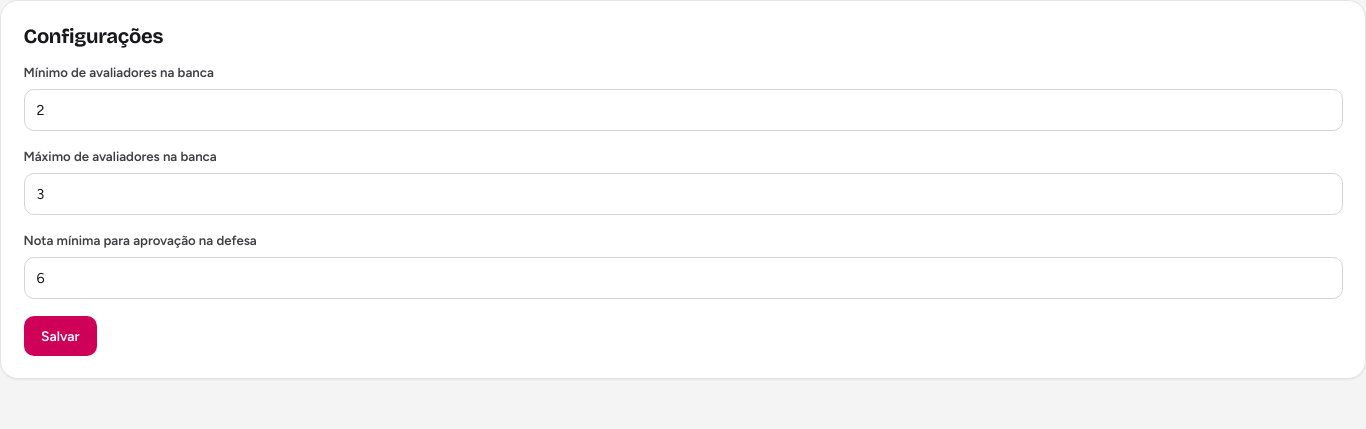
Test: coordenação: configurações › carrega e salva
Replace the text in the number field labelled "Nota mínima para aprovação na defesa" with "7" at (683, 278), box [24, 257, 1342, 299]
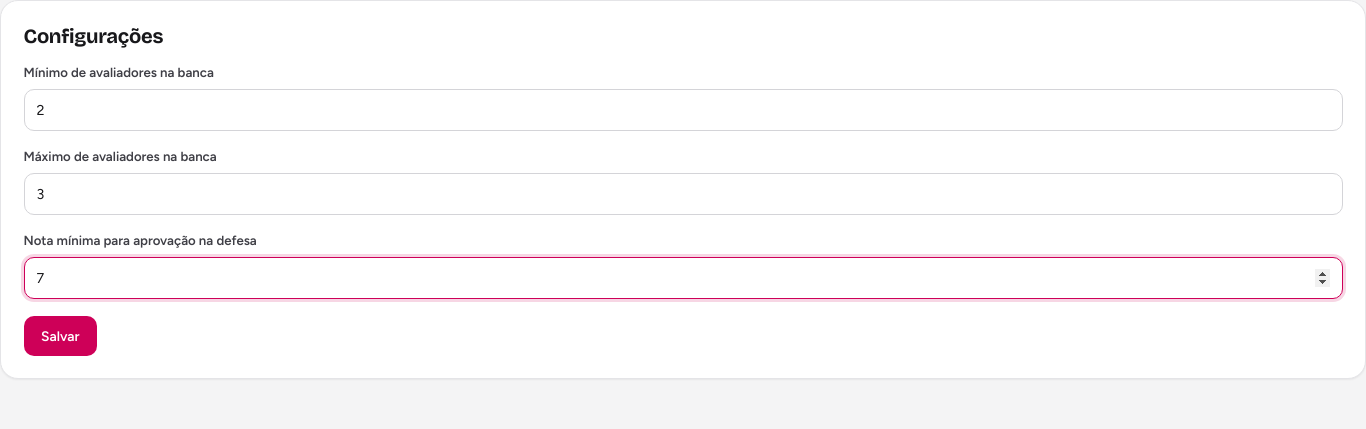
Click the button "Salvar" at (60, 336), box [24, 316, 97, 356]
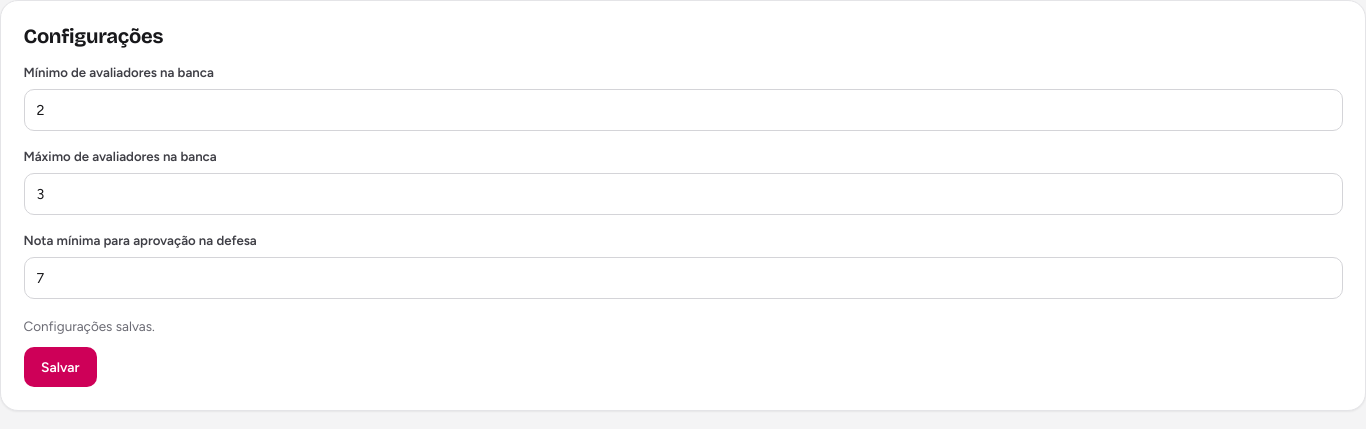
Result: the text "Configurações salvas." is shown at [24, 318, 155, 334]
